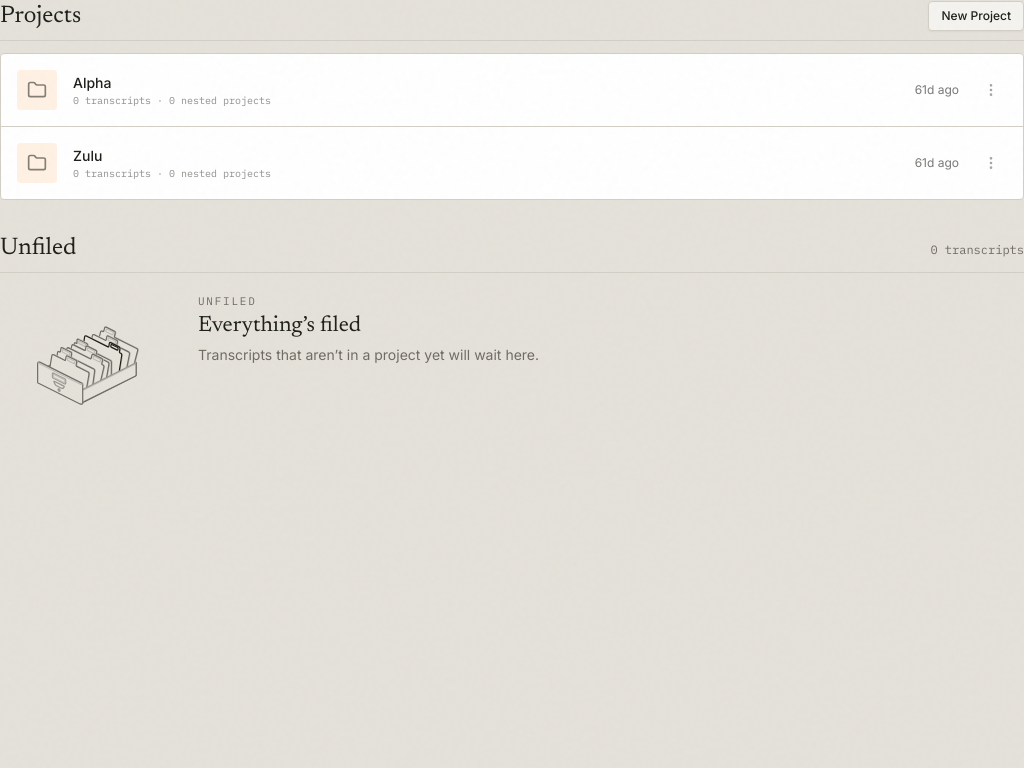
Test: ProjectsPage › creates a root project and owns one shared dialog for all project rows
Check: the number of buttons named "More options for" is 2, box [975,74,1007,106]; [975,147,1007,179]
Click the button "New Project". click: (976, 16)
box: [928,1,1023,31]
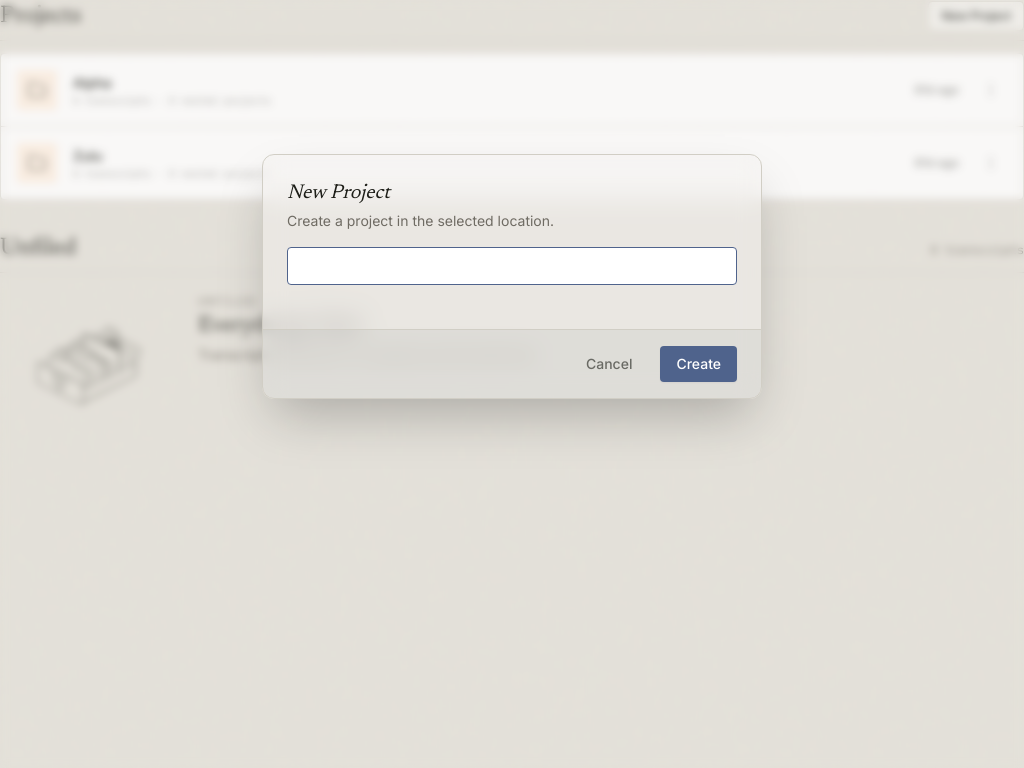
Check: the number of dialogs is 1, box [262,154,762,399]
Type "Created" into the field named "Project name". click: (512, 266)
box: [287,247,737,285]
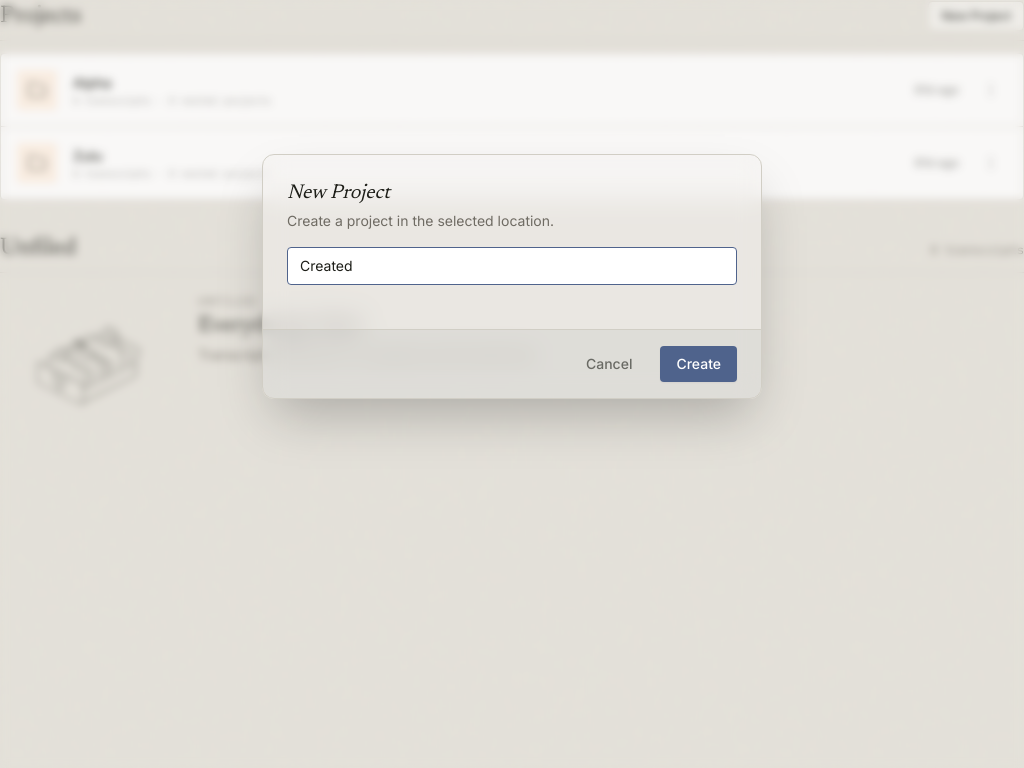
Click the button "Create". click: (699, 364)
box: [660,346,737,382]
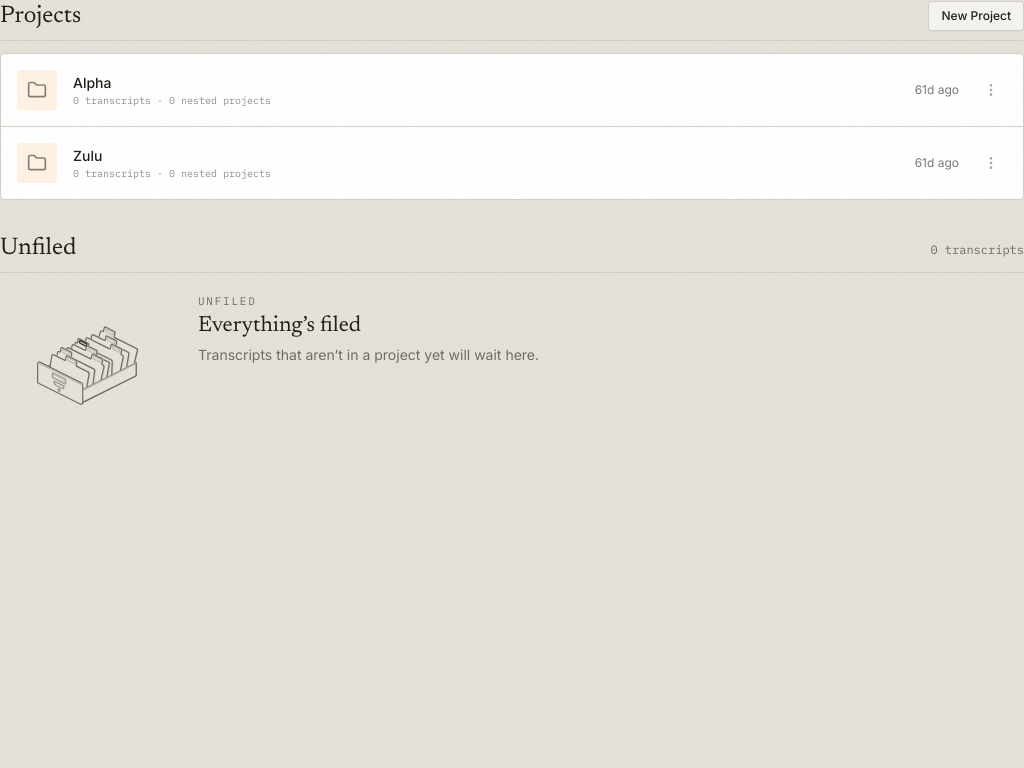
Check: the dialog is gone
